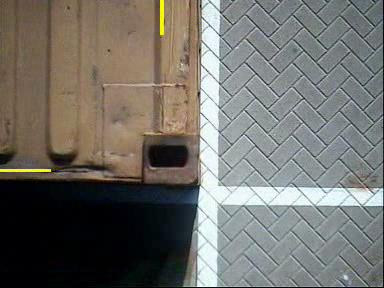groundmarker_2: (90, 50, 187, 111)
